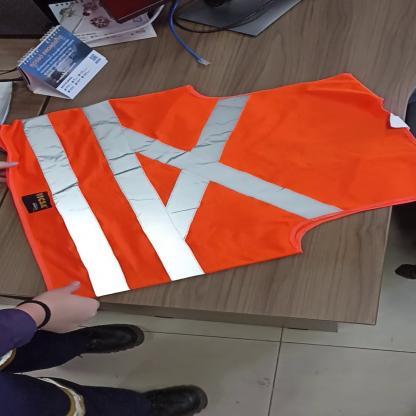colete: (1, 76, 416, 304)
